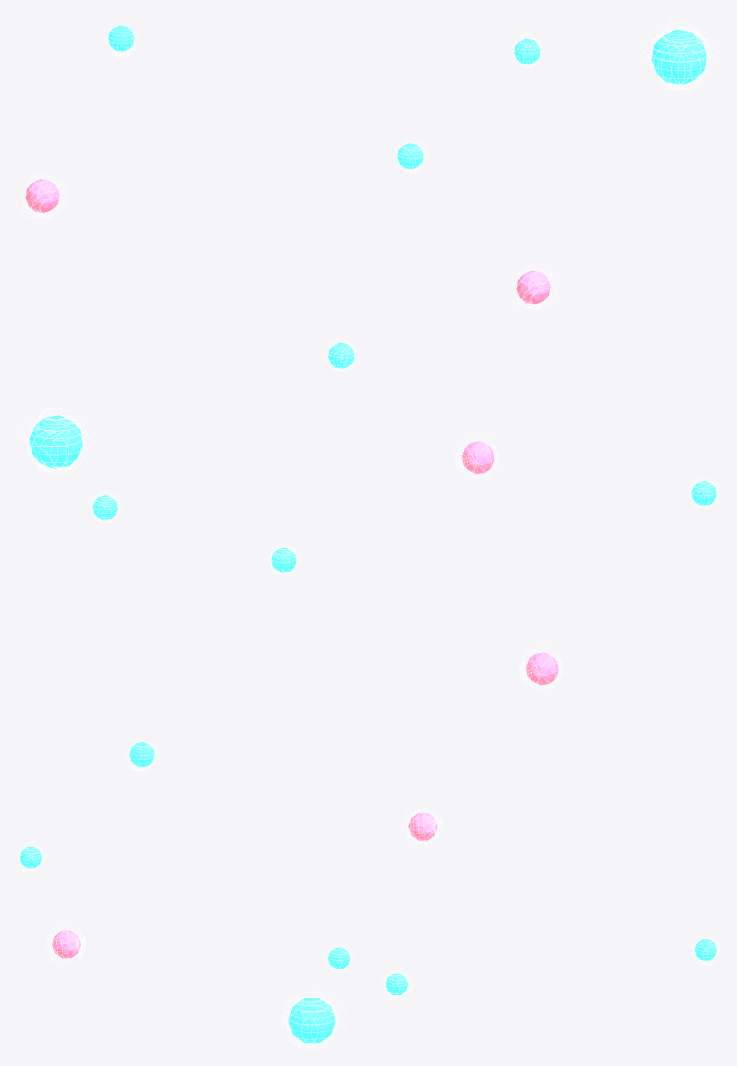
File: Nansan_Anim_2_.glb
3 renders of one model, top to bottom at view 1: azimuth 30°, elevation 25°; view 2: azimuth 150°, elevation 25°; view 3: azimuth 270°, elevation 25°, orthographic. The views are drawn at different scales.
Parts seen in each view (by area): view 1: Sphere.001, Sphere, Icosphere.002, Sphere.005, Icosphere.003, Sphere.004, Icosphere.007; view 2: Sphere.001, Icosphere.002, Sphere, Sphere.005, Icosphere.003, Sphere.004, Icosphere.007; view 3: Sphere.001, Sphere, Icosphere.002, Sphere.005, Icosphere.003, Sphere.004, Icosphere.007.
Part boxes in pixels (left/top/right/bottom): Sphere.001: left=637, top=14, right=722, bottom=94; Sphere: left=14, top=167, right=72, bottom=225; Icosphere.002: left=505, top=258, right=563, bottom=315; Sphere.005: left=322, top=336, right=361, bottom=372; Icosphere.003: left=391, top=136, right=430, bottom=173; Sphere.004: left=508, top=31, right=547, bottom=68; Icosphere.007: left=102, top=21, right=141, bottom=58; Sphere.001: left=14, top=402, right=96, bottom=477; Icosphere.002: left=452, top=429, right=504, bottom=485; Sphere: left=516, top=640, right=569, bottom=696; Sphere.005: left=684, top=474, right=722, bottom=510; Icosphere.003: left=264, top=541, right=302, bottom=576; Sphere.004: left=86, top=488, right=124, bottom=524; Icosphere.007: left=122, top=738, right=159, bottom=773; Sphere.001: left=276, top=986, right=347, bottom=1051; Sphere: left=400, top=802, right=444, bottom=851; Icosphere.002: left=42, top=920, right=87, bottom=968; Sphere.005: left=14, top=841, right=47, bottom=871; Icosphere.003: left=322, top=942, right=355, bottom=972; Sphere.004: left=380, top=968, right=413, bottom=998; Icosphere.007: left=689, top=936, right=722, bottom=966.
Bounding box in the file's own units: 139 × 27.47 × 161.
